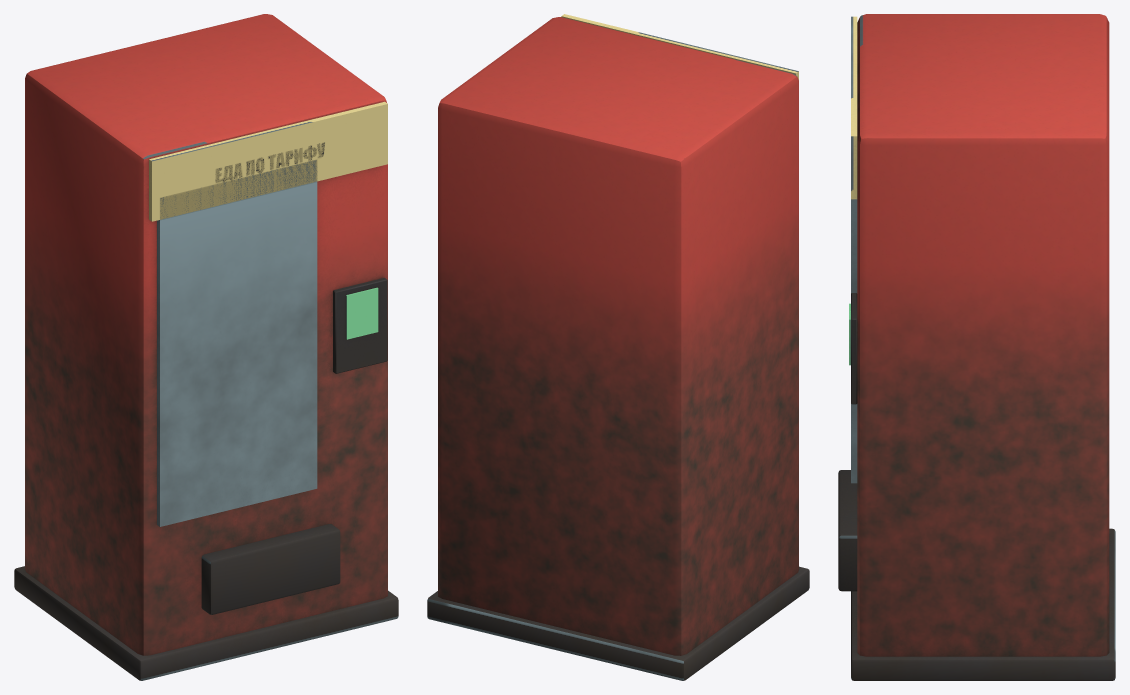
Rendered from g67_pz_vend_snacks.glb.
3 views of the same model, side by side, from view 1: azimuth 30°, elevation 25°; view 2: azimuth 150°, elevation 25°; view 3: azimuth 270°, elevation 25° (orthographic). The views are drawn at different scales.
Visible parts, largest first — view 1: g67_pz_vend_snacks, glass; view 2: g67_pz_vend_snacks; view 3: g67_pz_vend_snacks, glass.
Part boxes in pixels (x1,y1,x2,y2): g67_pz_vend_snacks: [14, 14, 398, 680]; glass: [157, 160, 317, 526]; g67_pz_vend_snacks: [427, 14, 809, 680]; g67_pz_vend_snacks: [838, 14, 1115, 680]; glass: [851, 199, 857, 483].
Size of the model in its own units: 0.99 by 1.9 by 0.88.
Materials: 1 (1 with a texture image).
